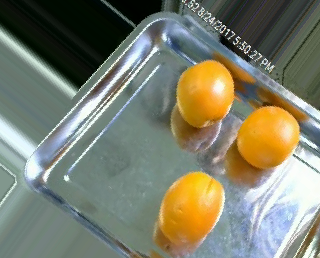Orange: (157, 171, 224, 245), (176, 58, 235, 127), (237, 106, 300, 169)
